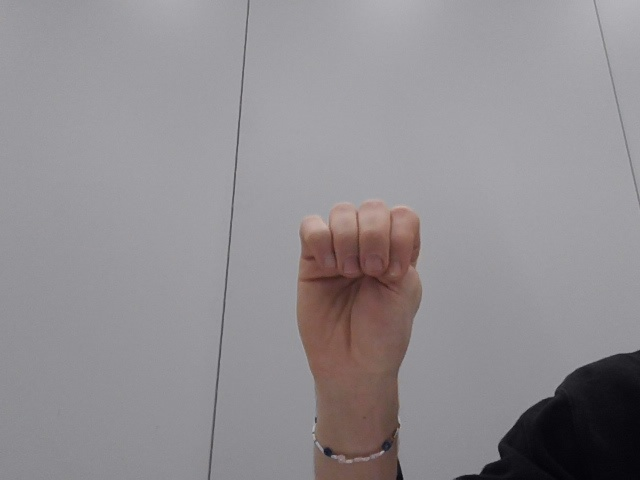down: (264, 184, 437, 417)
